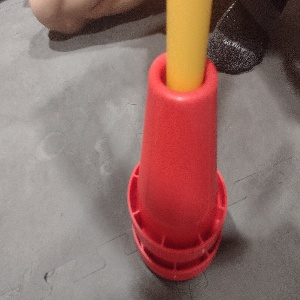Red_2: (123, 51, 228, 282)
